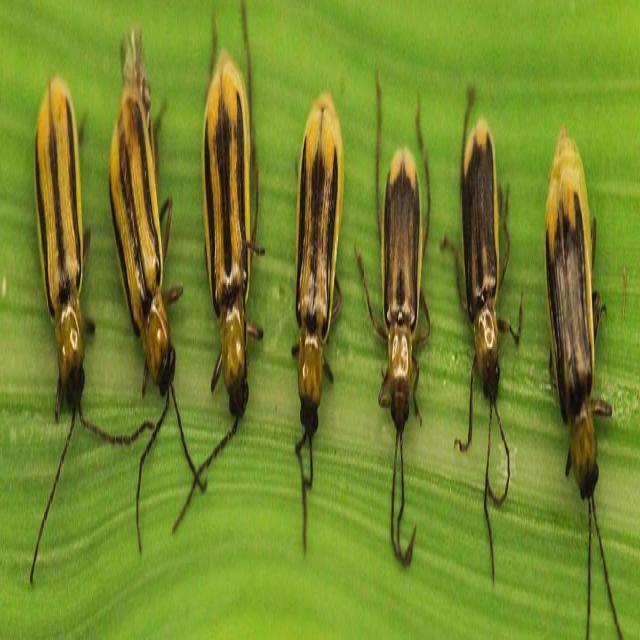trips: (357, 39, 444, 576), (535, 65, 623, 595), (447, 28, 518, 574), (18, 45, 97, 482), (106, 39, 180, 476), (196, 14, 264, 476), (286, 28, 347, 542)
